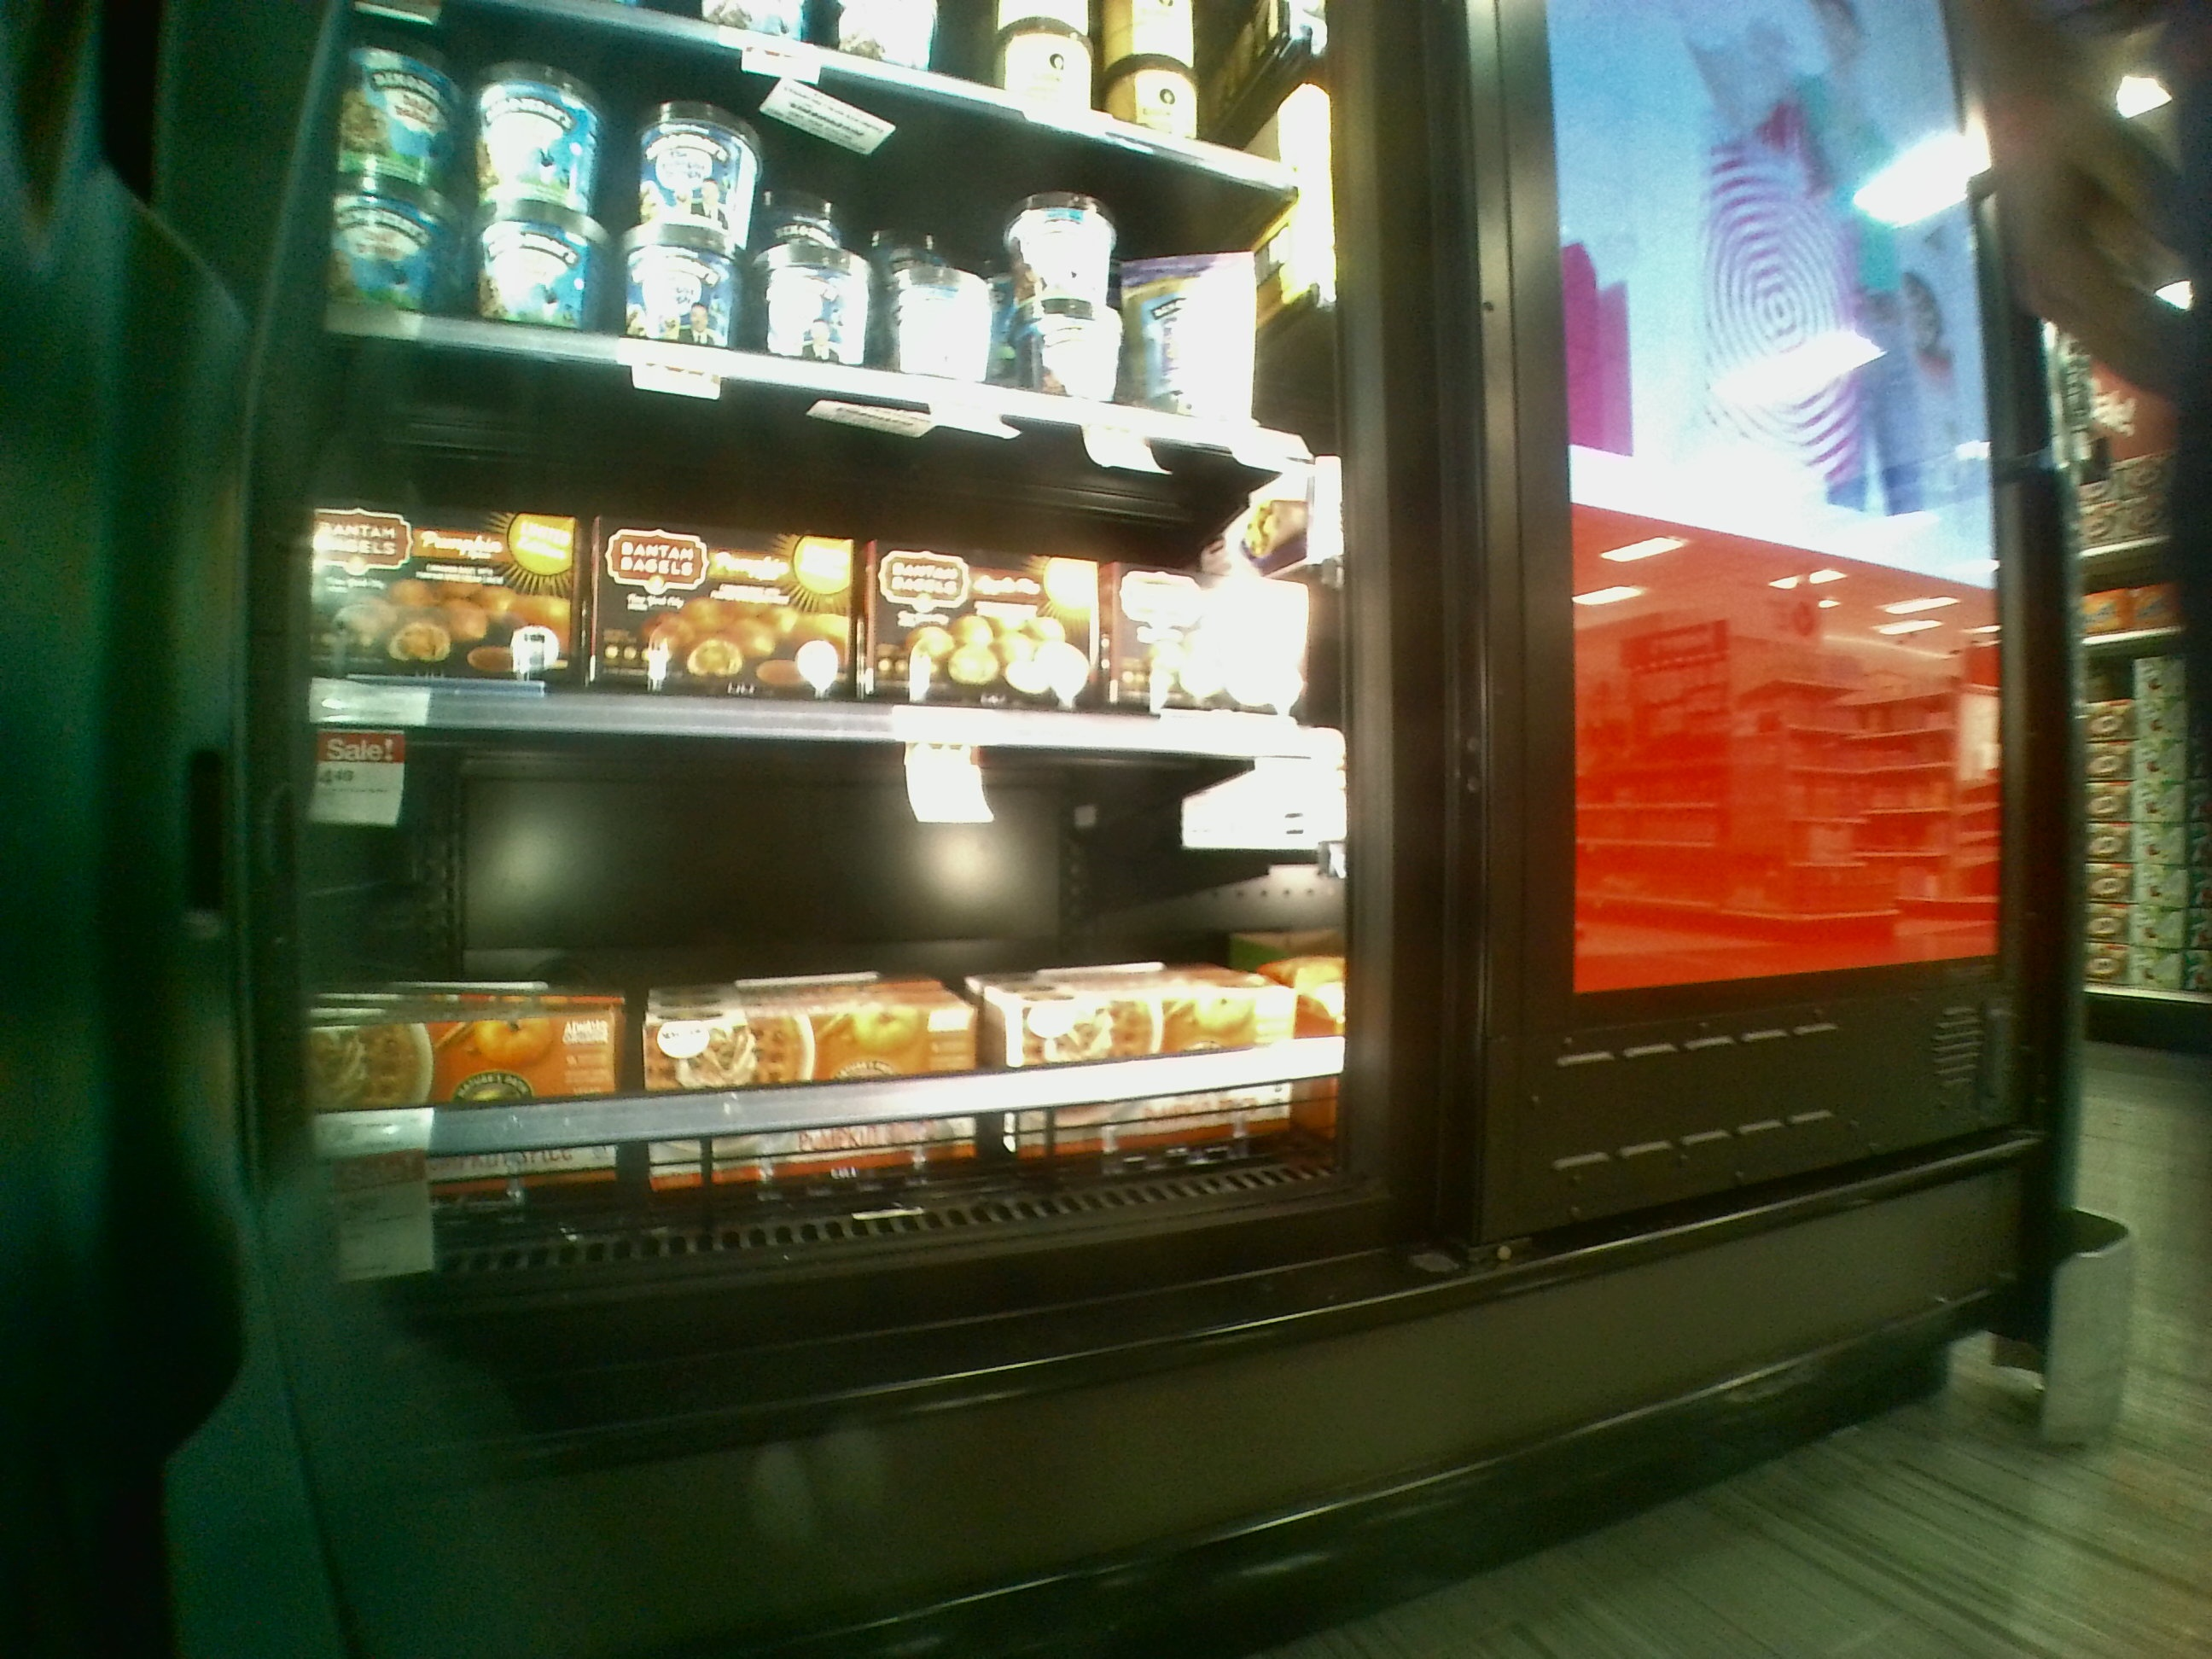shelf: (317, 765, 1371, 1251), (294, 382, 1366, 748)
